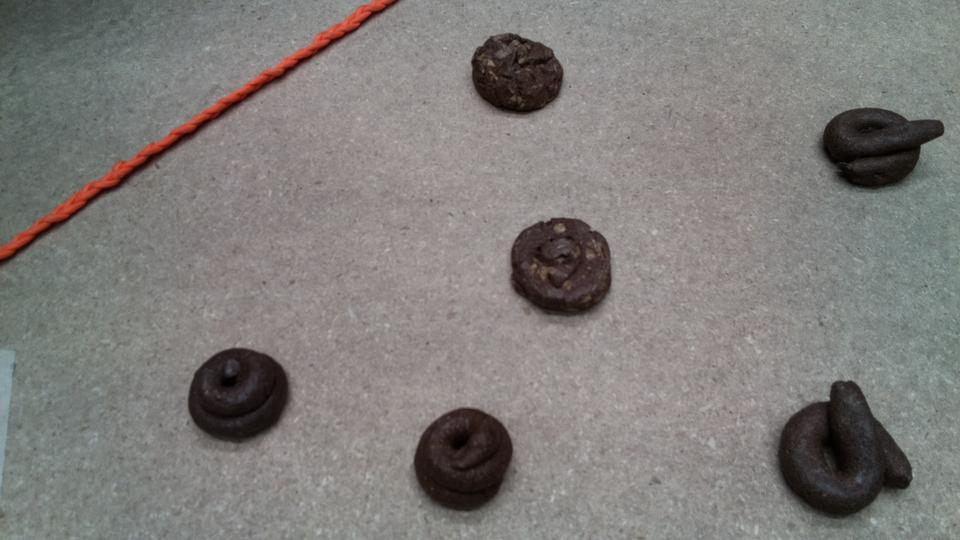poop: (773, 373, 925, 519), (413, 402, 521, 517), (507, 213, 616, 322), (185, 344, 300, 447), (821, 99, 944, 193), (470, 30, 567, 126)
rope: (255, 4, 400, 84), (1, 186, 114, 273), (178, 62, 284, 151), (87, 122, 196, 201)
